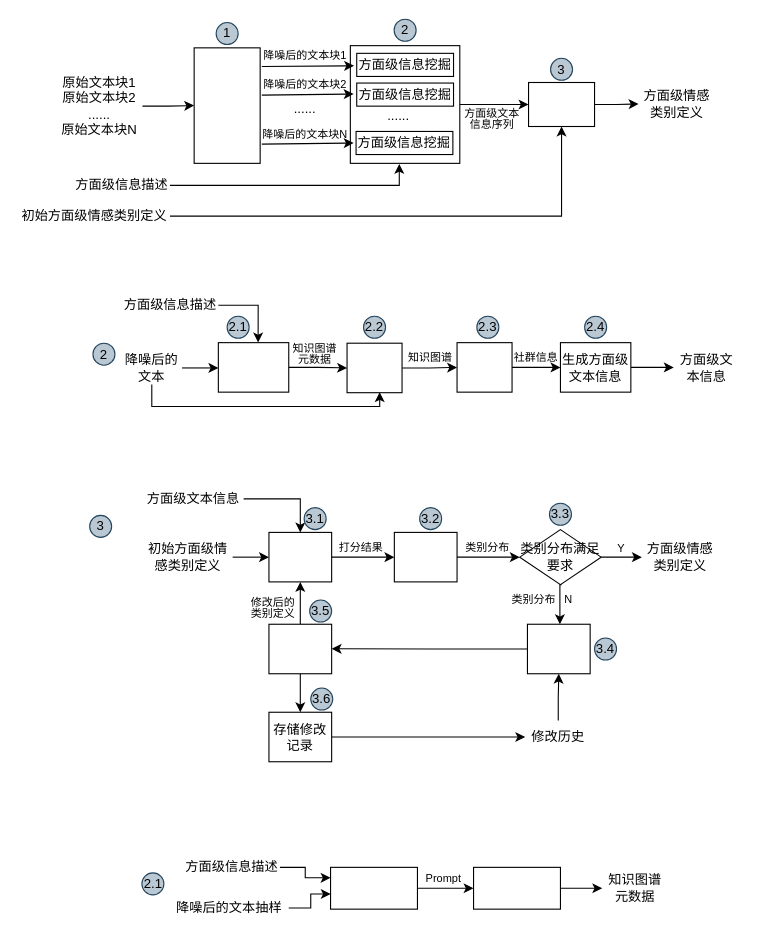
Image size: 758x944. Some labels were removed from this diagram. The centre of each missing label's shape, as x and y in pixels:
"修改类别定义" goes at [300,648].
"分析类别分布" goes at [425,556].
"分类" goes at [300,556].
"创建知识图谱" goes at [374,367].
"创建社群" goes at [484,367].
"制定修改策略" goes at [558,648].
"情感类别信息挖掘" goes at [561,104].
"数据清洗" goes at [226,105].
"构建Prompt" goes at [373,887].
"生成知识图谱元数据" goes at [253,367].
"调用大模型" goes at [516,887].
